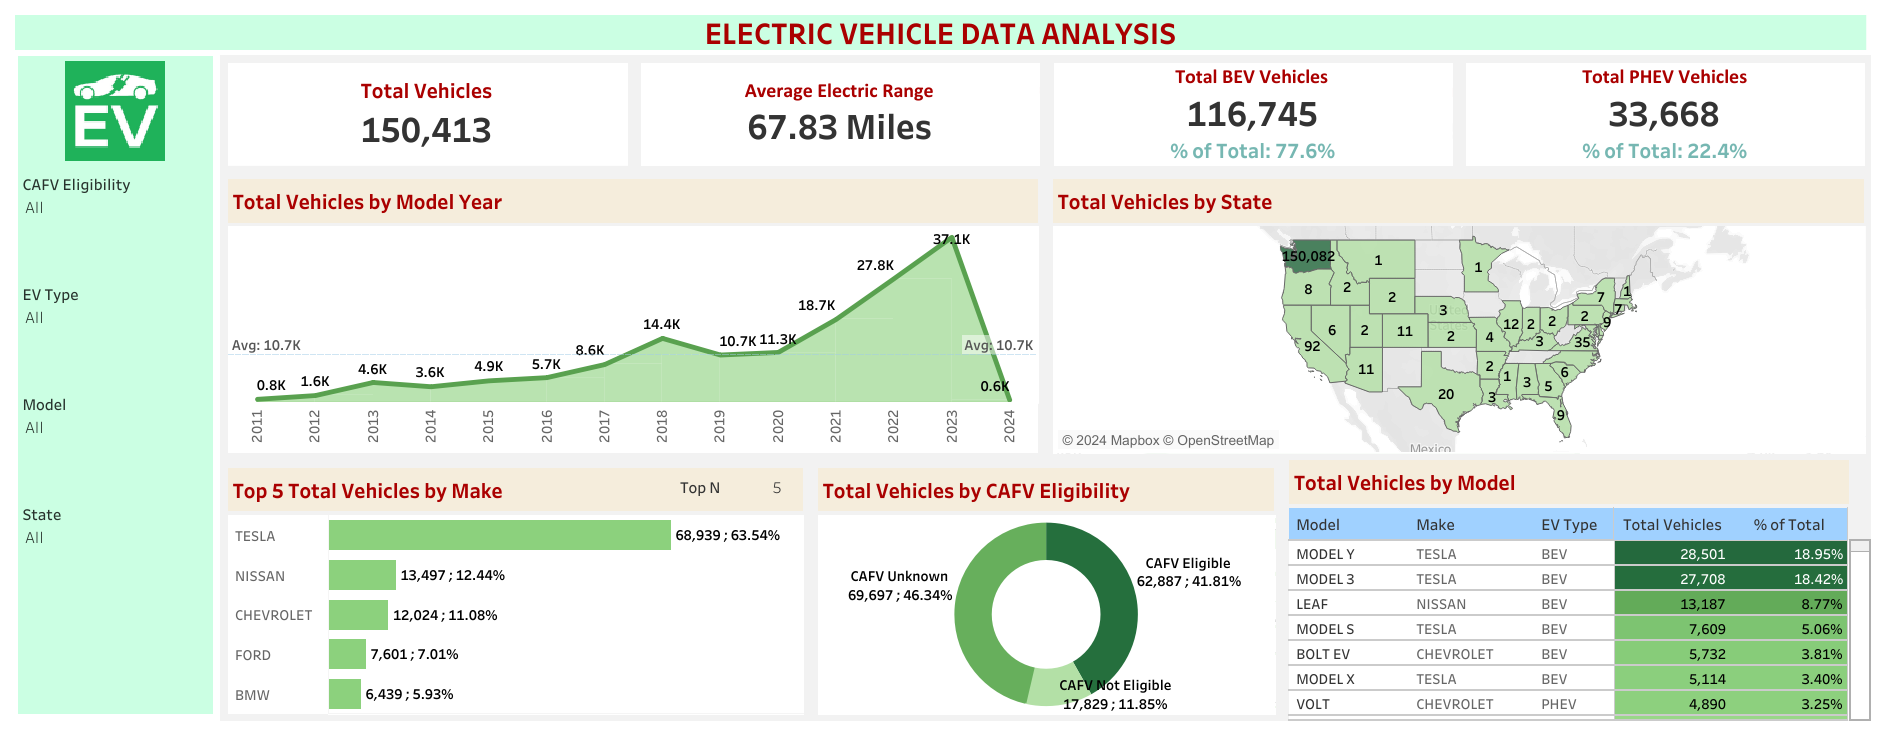

This screenshot's page, from the dashboard's own definition file:
{"tool":"tableau","page":{"name":"EV Dash Board","canvas":[1000,1000],"units":"permille","ordinal":0},"visuals":[{"type":"title","box":[4.9,10.2,990.2,61.4]},{"type":"worksheet","title":"Total Vehicles","mark":"Automatic","box":[116.7,71.7,219.9,161.3]},{"type":"worksheet","title":"Average Electric Range","mark":"Automatic","box":[336.6,71.7,219.9,161.3]},{"type":"worksheet","title":"Total BEV Vehicles","mark":"Automatic","box":[556.5,71.7,219.3,161.3]},{"type":"worksheet","title":"Total PHEV Vehicles","mark":"Automatic","box":[775.8,71.7,219.3,161.3]},{"type":"image","param":"Image/Document.jpeg","box":[8.6,73,104.5,152.4]},{"type":"filter","title":"Total Vehicles by Model Year","param":"[federated.0dbbx5d1fx2m0313wouss0kxwa6u].[none:Clean Alternative Fuel Vehicle (C","box":[8.6,225.3,104.5,152.4]},{"type":"worksheet","title":"Total Vehicles by Model Year","mark":"Area","rows":["Calculation_860469036018909184","Calculation_860469036018909184"],"cols":["Model Year"],"box":[116.6,233,458.2,396.8]},{"type":"worksheet","title":"Total Vehicles by State","mark":"Multipolygon","box":[574.8,233,420.3,396.8]},{"type":"filter","title":"Total Vehicles by Model Year","param":"[federated.0dbbx5d1fx2m0313wouss0kxwa6u].[none:Electric Vehicle Type:nk]","box":[8.6,377.7,104.5,151.1]},{"type":"filter","title":"Total Vehicles by Model Year","param":"[federated.0dbbx5d1fx2m0313wouss0kxwa6u].[none:Model:nk]","box":[8.6,528.8,104.5,151.1]},{"type":"worksheet","title":"Top 10 Total Vehicles by Make","mark":"Automatic","rows":["Make"],"cols":["Calculation_860469036018909184"],"box":[116.6,629.9,306.1,359.9]},{"type":"worksheet","title":"Total Vehicles by CAFV Eligibility","mark":"Pie","rows":["Calculation_860469036041842696","Calculation_860469036041842696"],"box":[422.7,629.9,230.3,359.9]},{"type":"worksheet","title":"Top 10 Total Vehicles by Model","mark":"Square","rows":["Model","Make","Electric Vehicle Type"],"box":[653,629.9,342.1,359.9]},{"type":"parameter","param":"[Parameters].[Parameter 1]","box":[361.6,649.2,62.3,29.4]},{"type":"filter","title":"Total Vehicles by Model Year","param":"[federated.0dbbx5d1fx2m0313wouss0kxwa6u].[none:State:nk]","box":[8.6,679.9,104.5,151.1]},{"type":"blank","box":[8.6,831,104.5,151.1]}]}

Visuals, with their boxes on the dashboard's canvas, which has no fixed pixel size, in thousandths of its width and height (x1, y1, x2, y2). These are canvas units, not pixel positions in the 1880x730 screenshot, which may show the page scaled, cropped or inside an application window:
title: (left=5, top=10, right=995, bottom=72)
"Total Vehicles" worksheet: (left=117, top=72, right=337, bottom=233)
"Average Electric Range" worksheet: (left=337, top=72, right=556, bottom=233)
"Total BEV Vehicles" worksheet: (left=556, top=72, right=776, bottom=233)
"Total PHEV Vehicles" worksheet: (left=776, top=72, right=995, bottom=233)
image: (left=9, top=73, right=113, bottom=225)
"Total Vehicles by Model Year" filter: (left=9, top=225, right=113, bottom=378)
"Total Vehicles by Model Year" worksheet (Area marks): (left=117, top=233, right=575, bottom=630)
"Total Vehicles by State" worksheet (Multipolygon marks): (left=575, top=233, right=995, bottom=630)
"Total Vehicles by Model Year" filter: (left=9, top=378, right=113, bottom=529)
"Total Vehicles by Model Year" filter: (left=9, top=529, right=113, bottom=680)
"Top 10 Total Vehicles by Make" worksheet: (left=117, top=630, right=423, bottom=990)
"Total Vehicles by CAFV Eligibility" worksheet (Pie marks): (left=423, top=630, right=653, bottom=990)
"Top 10 Total Vehicles by Model" worksheet (Square marks): (left=653, top=630, right=995, bottom=990)
parameter: (left=362, top=649, right=424, bottom=679)
"Total Vehicles by Model Year" filter: (left=9, top=680, right=113, bottom=831)
blank: (left=9, top=831, right=113, bottom=982)
